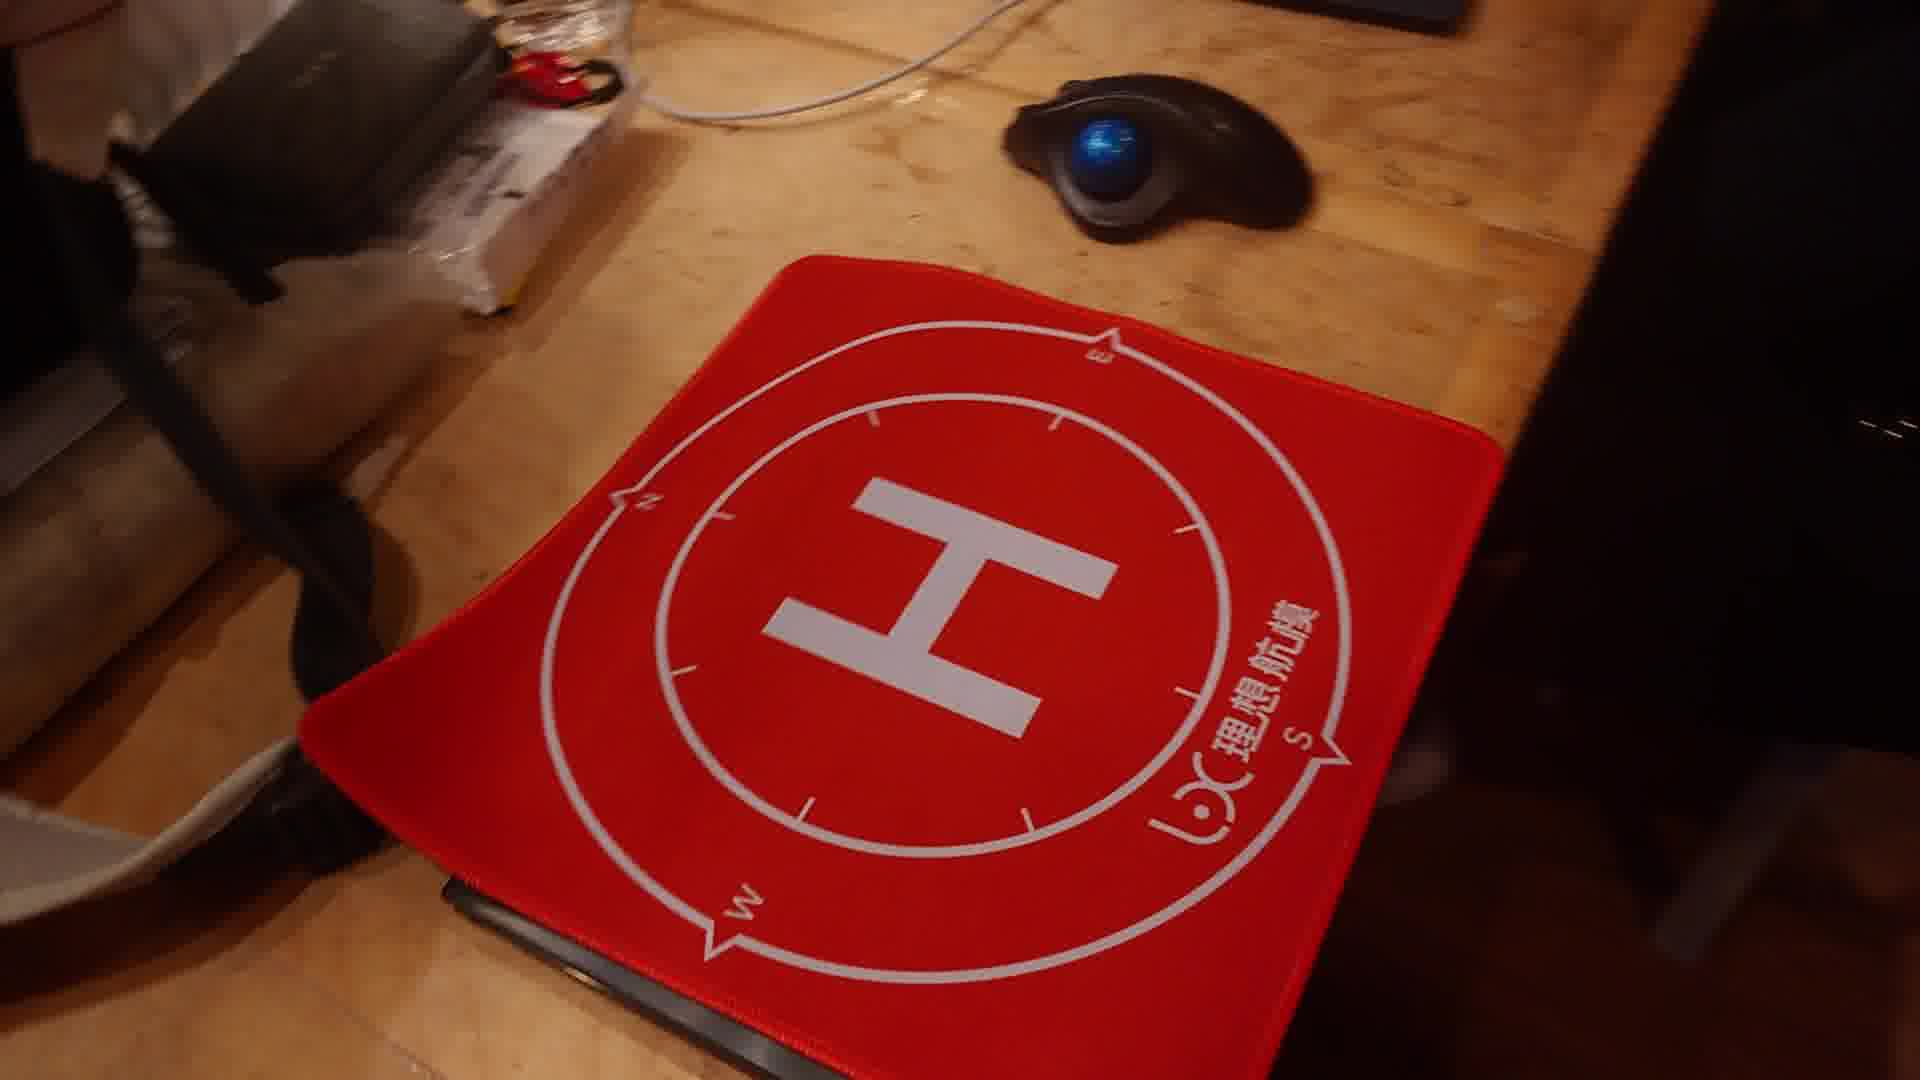H: (760, 475, 1121, 745)
